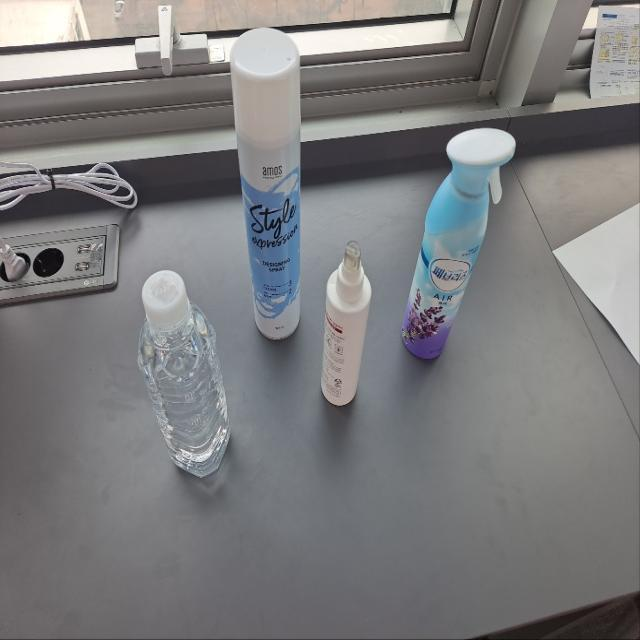spray: (394, 125, 526, 368), (224, 27, 315, 348), (309, 240, 376, 410)
water: (130, 267, 235, 487)
